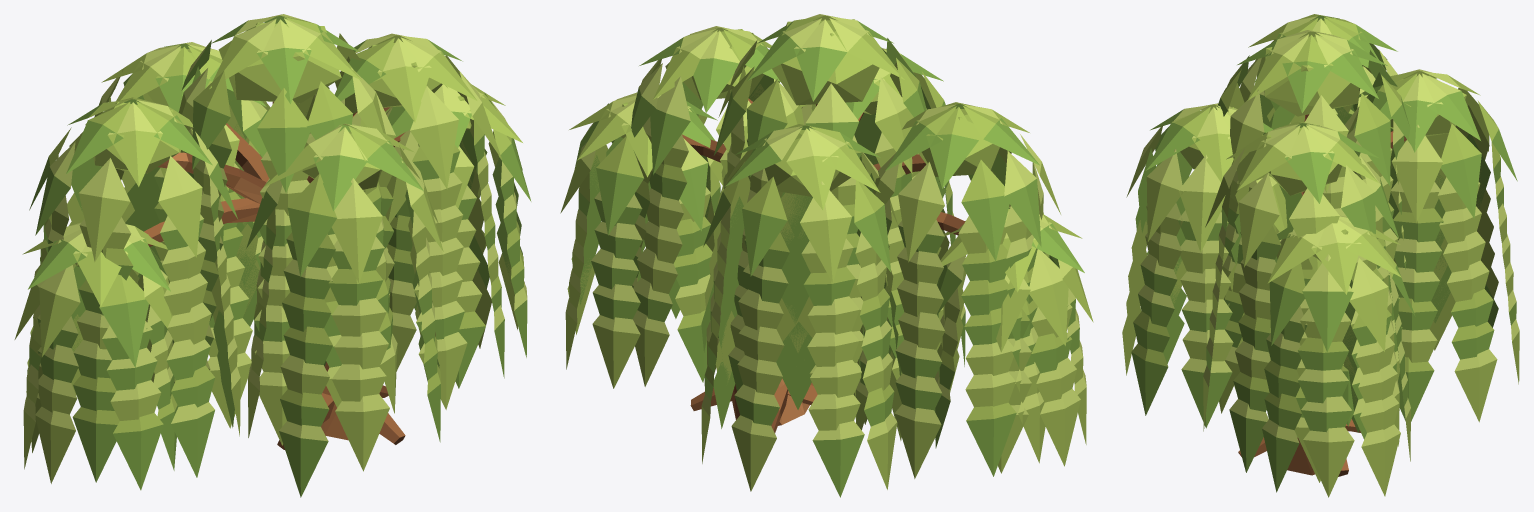
File: FMS_Tree_Willow.fbx
3 views of the same model, side by side, from view 1: azimuth 30°, elevation 25°; view 2: azimuth 150°, elevation 25°; view 3: azimuth 270°, elevation 25° (orthographic). The views are drawn at different scales.
Parts seen in each view (by area): view 1: FMS_Tree_Willow; view 2: FMS_Tree_Willow; view 3: FMS_Tree_Willow.
Boxes of the visible parts, x1,y1,x2,y2 form: FMS_Tree_Willow: [14, 14, 531, 497]; FMS_Tree_Willow: [560, 14, 1093, 497]; FMS_Tree_Willow: [1122, 14, 1519, 497].
Size of the model in its own units: 6.11 by 4.95 by 4.43.
